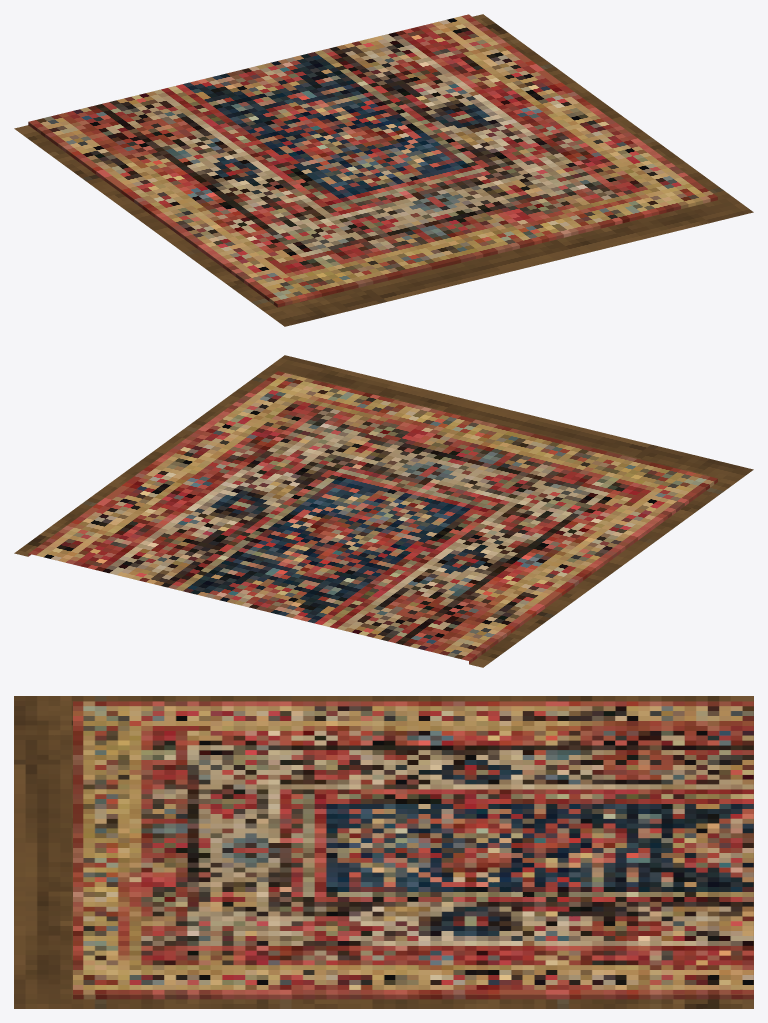
Rendered from Floor.Carpet.glb.
3 views of the same model, one above another, from view 1: azimuth 30°, elevation 25°; view 2: azimuth 150°, elevation 25°; view 3: azimuth 270°, elevation 25° (orthographic). The views are drawn at different scales.
Visible parts, largest first — view 1: Plane.002; view 2: Plane.002; view 3: Plane.002.
Boxes of the visible parts, <box> form: Plane.002: <box>14,14,753,326</box>; Plane.002: <box>14,355,753,667</box>; Plane.002: <box>14,696,753,1008</box>.
Size of the model in its own units: 3 by 0.02 by 3.
2 materials, 2 textured.
